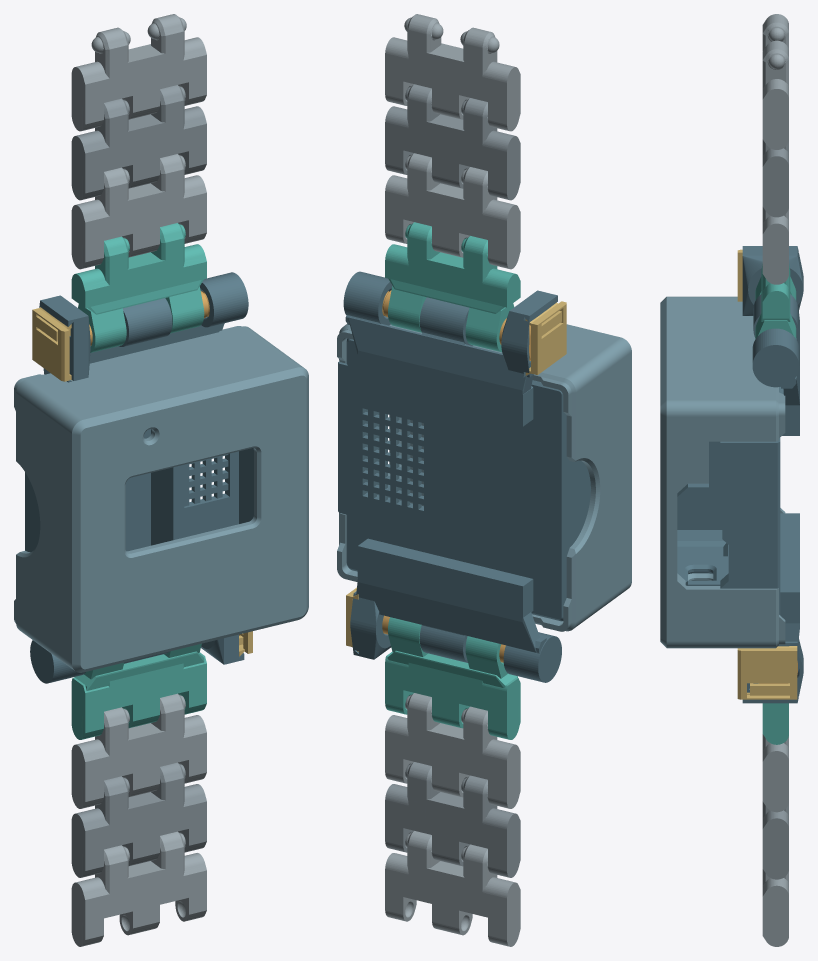
The model's file is 装配预览.glb.
3 renders of one model, left to right at view 1: azimuth 30°, elevation 25°; view 2: azimuth 150°, elevation 25°; view 3: azimuth 270°, elevation 25°, orthographic. The views are drawn at different scales.
Visible parts, largest first — view 1: Original front, Modified rear, Adapter A, Reference link A3, Reference link B3, Reference link B2, Reference link A1, Reference link A2, Reference link B1, Adapter B, Locking cap A; view 2: Modified rear, Original front, Adapter A, Reference link A3, Adapter B, Reference link B3, Reference link A1, Reference link A2, Reference link B2, Reference link B1, Locking cap A; view 3: Original front, Modified rear, Reference link A3, Locking cap B, Adapter A, Reference link A2, Reference link A1, Reference link B2, Reference link B3, Reference link B1, Adapter B.
Boxes of the visible parts, bbox=[...] form: Original front: bbox=[14, 326, 308, 672]; Modified rear: bbox=[25, 272, 253, 683]; Adapter A: bbox=[71, 223, 206, 352]; Reference link A3: bbox=[71, 14, 206, 131]; Reference link B3: bbox=[71, 831, 206, 946]; Reference link B2: bbox=[71, 762, 206, 877]; Reference link A1: bbox=[71, 154, 206, 269]; Reference link A2: bbox=[71, 85, 206, 200]; Reference link B1: bbox=[71, 693, 206, 808]; Adapter B: bbox=[71, 643, 206, 739]; Locking cap A: bbox=[32, 307, 71, 381]; Modified rear: bbox=[338, 271, 590, 682]; Original front: bbox=[337, 324, 631, 631]; Adapter A: bbox=[385, 222, 520, 352]; Reference link A3: bbox=[385, 14, 520, 131]; Adapter B: bbox=[385, 617, 520, 739]; Reference link B3: bbox=[385, 831, 520, 946]; Reference link A1: bbox=[385, 153, 520, 269]; Reference link A2: bbox=[385, 84, 520, 200]; Reference link B2: bbox=[385, 762, 520, 877]; Reference link B1: bbox=[385, 693, 520, 808]; Locking cap A: bbox=[525, 301, 566, 375]; Original front: bbox=[660, 296, 785, 648]; Modified rear: bbox=[677, 246, 803, 703]; Reference link A3: bbox=[762, 14, 788, 149]; Locking cap B: bbox=[737, 646, 797, 699]; Adapter A: bbox=[755, 264, 796, 338]; Reference link A2: bbox=[762, 139, 788, 217]; Reference link A1: bbox=[762, 207, 788, 284]; Reference link B2: bbox=[762, 801, 788, 879]; Reference link B3: bbox=[762, 869, 788, 946]; Reference link B1: bbox=[762, 734, 788, 812]; Adapter B: bbox=[762, 703, 788, 744].
Size of the model in its own units: 42.4 by 155 by 22.7.
